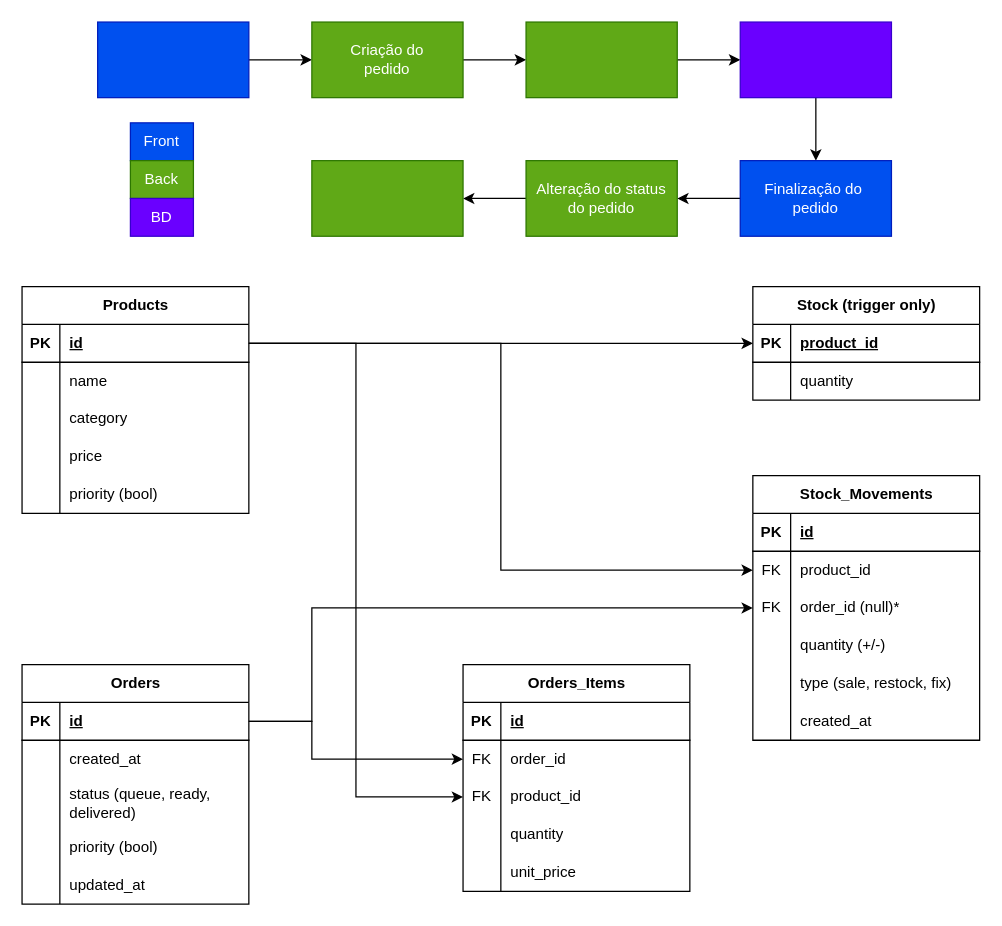
The diagram is 1002 pixels wide and 926 high, and some of its shapes have lost their labels. The centre of each missing label's shape, as x and y in pixels:
"*Alteração no total estoque*" belongs at point 815,59.
"Aviso de pedido pronto" belongs at point 387,197.
"Movementação do estoque" belongs at point 601,59.
"Pagamento do pedido" belongs at point 172,59.
